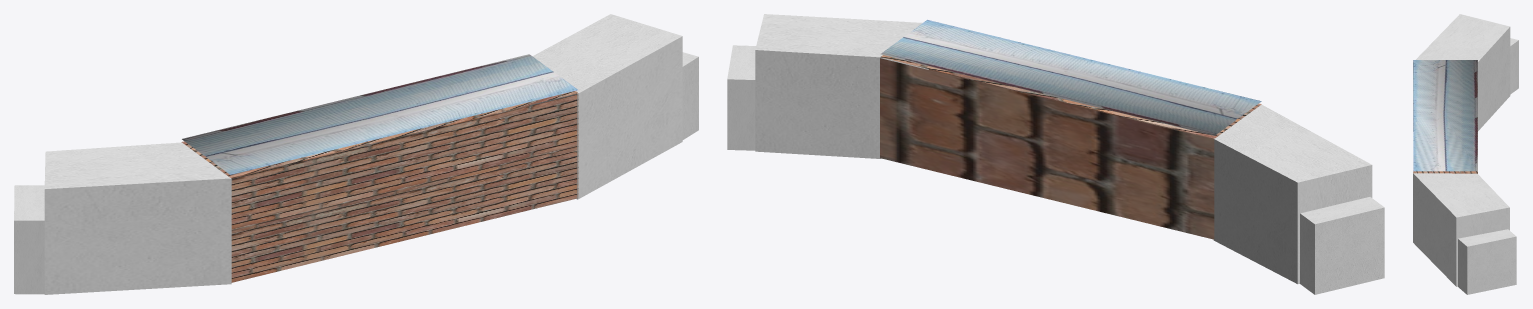
Rendered from AtrasC3.obj.
The picture shows the model from 3 angles, left to right: view 1: azimuth 30°, elevation 25°; view 2: azimuth 150°, elevation 25°; view 3: azimuth 270°, elevation 25°; orthographic projection. The views are drawn at different scales.
Visible parts, largest first — view 1: AtrasC3_Cone.012; view 2: AtrasC3_Cone.012; view 3: AtrasC3_Cone.012.
Part boxes in pixels (<box>): AtrasC3_Cone.012: <box>14,14,698,294</box>; AtrasC3_Cone.012: <box>727,14,1384,294</box>; AtrasC3_Cone.012: <box>1413,14,1518,294</box>.
Size of the model in its own units: 71.44 by 10.97 by 14.65.
